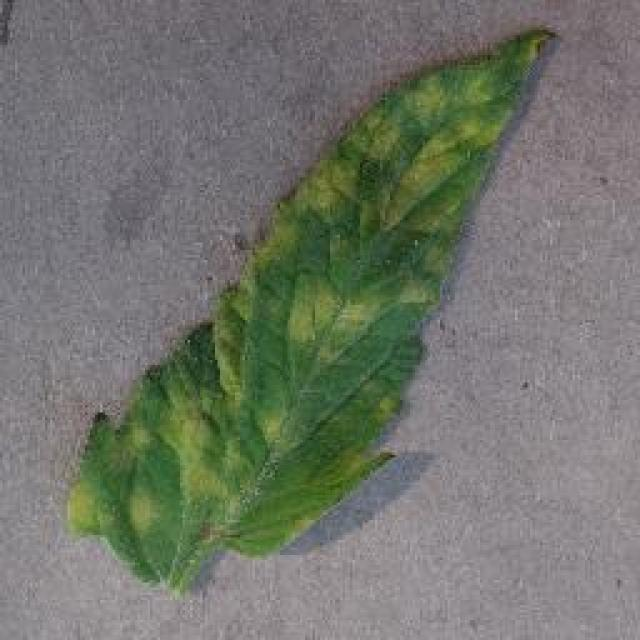Tomato___Leaf_Mold: (62, 28, 560, 600)
